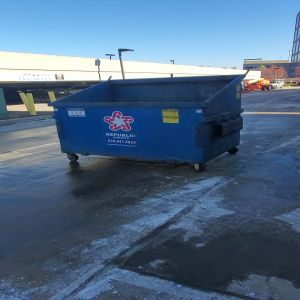Dumpster: (48, 76, 250, 174)
